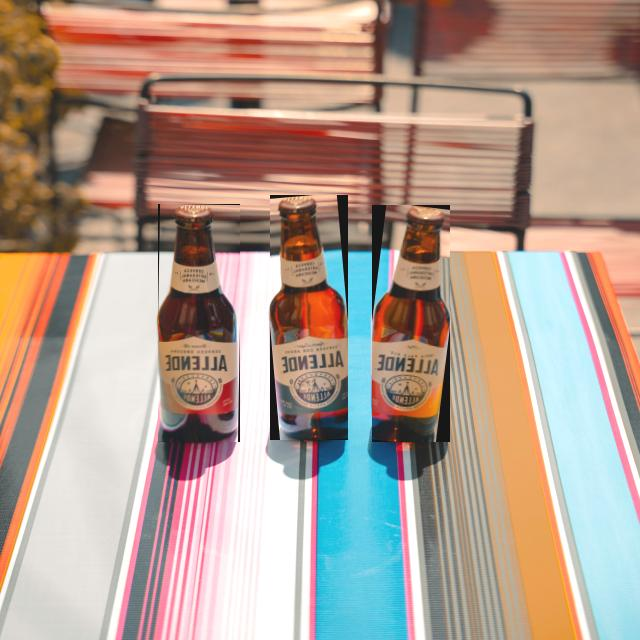Bottle: (157, 205, 238, 441), (269, 195, 346, 439), (371, 206, 449, 441)
